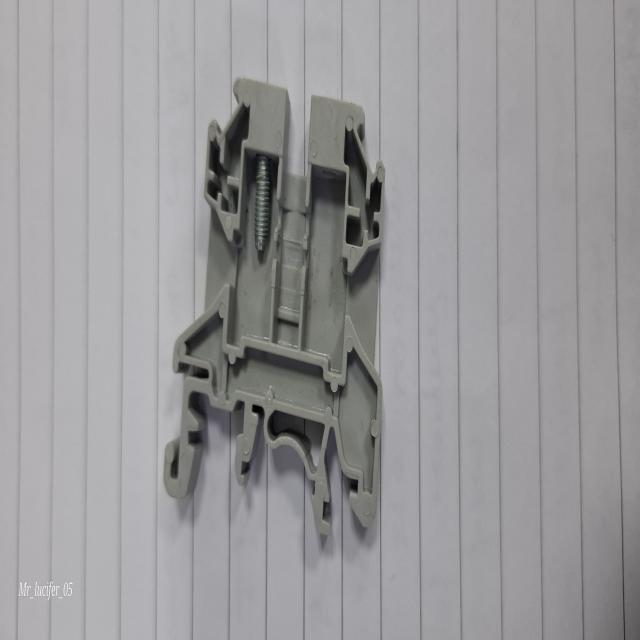Reject: (150, 66, 386, 543)
